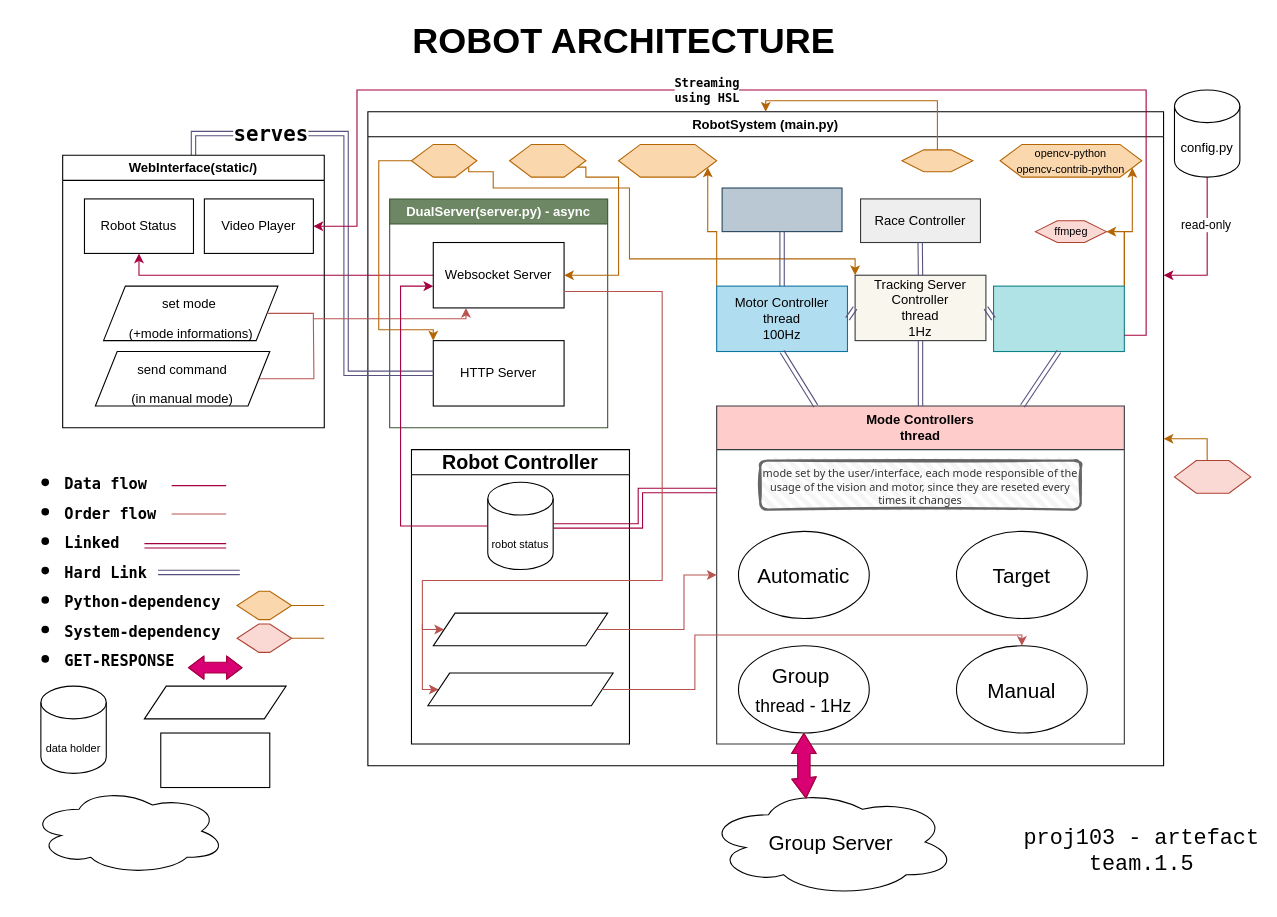
Some shapes in this 1277 by 917 pixel diagram are drawn without their labels. Each missing label, with the centre of its shape:
"aiohttp" belongs at point 443,160.
"forward manual command" belongs at point 520,689.
"function/method" belongs at point 214,702.
"module/class/div" belongs at point 215,760.
"numpy" belongs at point 937,160.
"Odometry Controller" belongs at point 781,209.
"python 3.13" belongs at point 1212,476.
"remote server" belongs at point 127,830.
"smbus libraryMotors" belongs at point 667,160.
"switch mode" belongs at point 520,629.
"Vision Controller thread 10/30Hz" belongs at point 1058,318.
"websockets" belongs at point 547,160.
